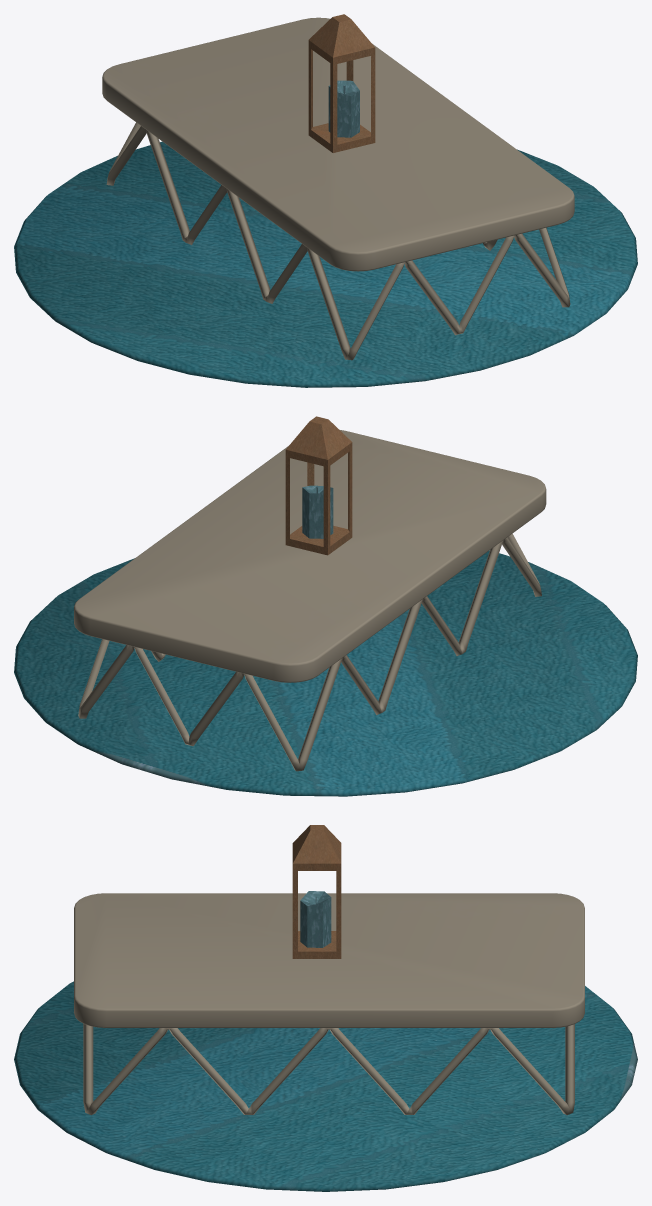
Rendered from giardino_tavolino.fbx.
The picture shows the model from 3 angles, top to bottom: view 1: azimuth 30°, elevation 25°; view 2: azimuth 150°, elevation 25°; view 3: azimuth 270°, elevation 25°; orthographic projection.
Visible parts, largest first — view 1: Gambe del tavolo; view 2: Gambe del tavolo; view 3: Gambe del tavolo.
Boxes of the visible parts, x1,y1,x2,y2 form: Gambe del tavolo: [14, 14, 637, 387]; Gambe del tavolo: [14, 416, 637, 796]; Gambe del tavolo: [14, 825, 637, 1191].
Size of the model in its own units: 229 by 96.81 by 229.
